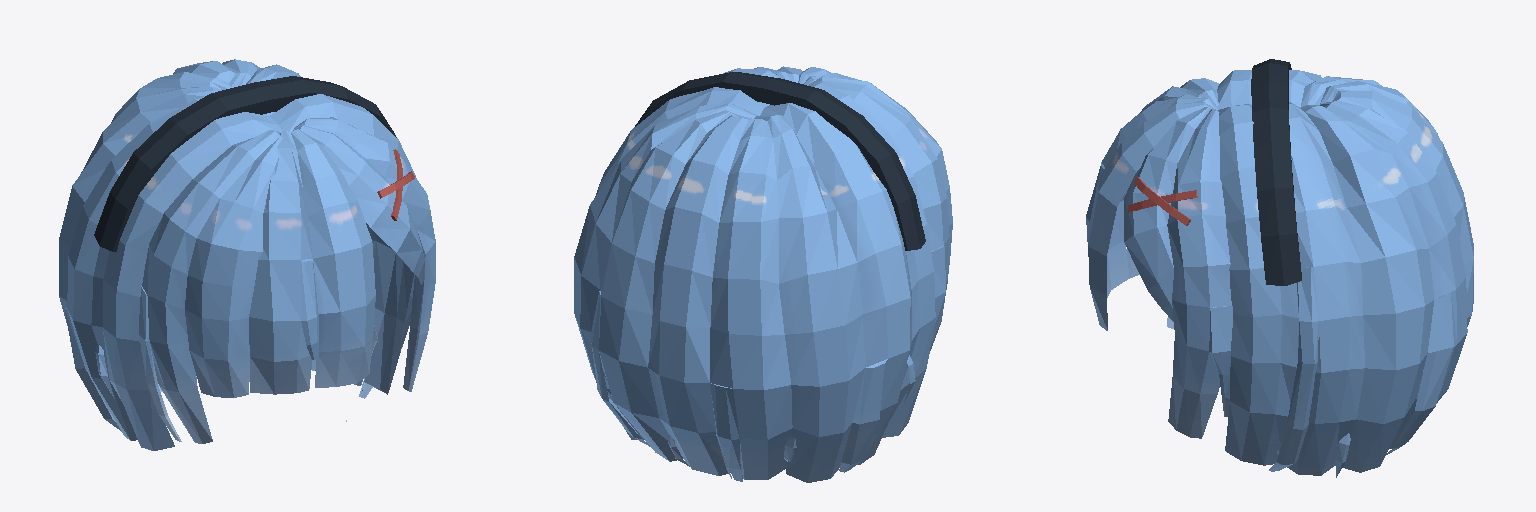
The picture shows the model from 3 angles: view 1: azimuth 30°, elevation 25°; view 2: azimuth 150°, elevation 25°; view 3: azimuth 270°, elevation 25°; orthographic projection.
Visible parts, largest first — view 1: NurbsPath.013; view 2: NurbsPath.013; view 3: NurbsPath.013.
Boxes of the visible parts, box(x1,y1,x2,y2) form: NurbsPath.013: box(59, 59, 435, 450); NurbsPath.013: box(574, 66, 952, 482); NurbsPath.013: box(1086, 59, 1473, 477).
Size of the model in its own units: 1.18 by 1.21 by 1.22.
Materials: 1 (1 with a texture image).